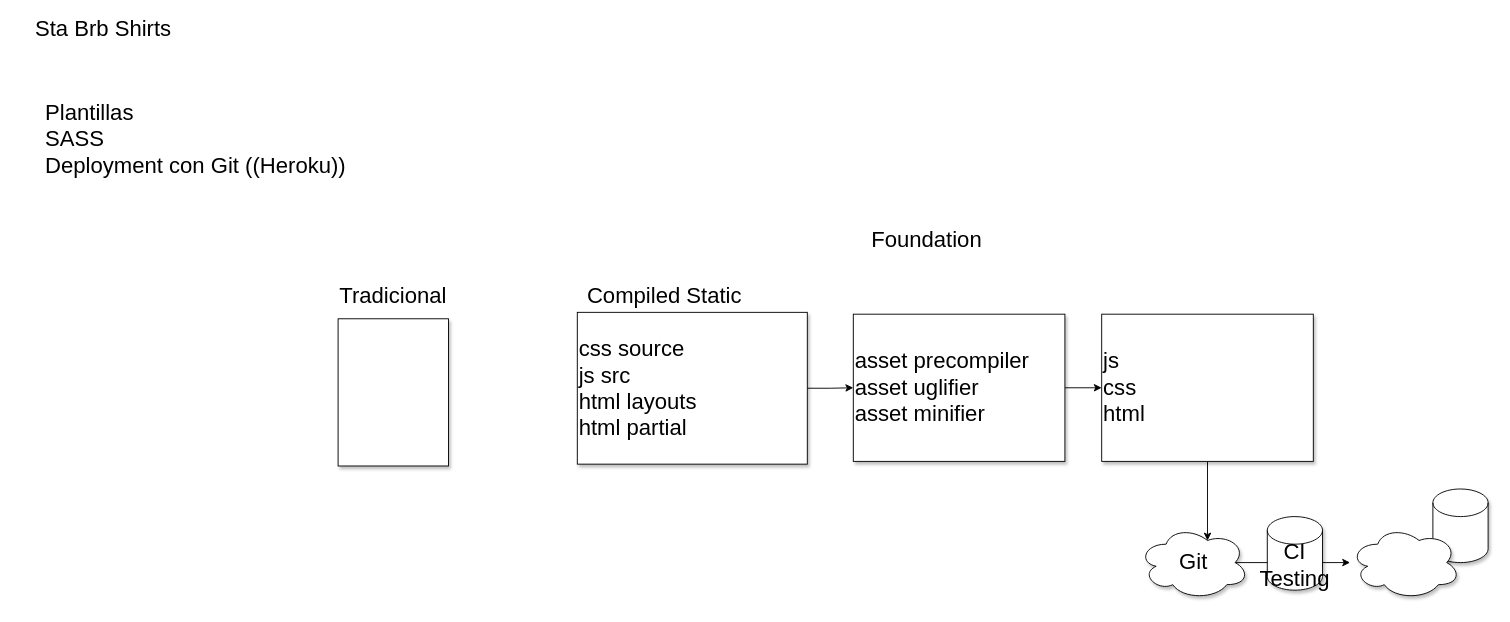
This 1510x622 diagram has some shape labels left out. Here are the shapes that lost their labels. From the top down, the centre of each, then its label:
the point at 394,393: js css html img
the point at 1406,563: Heroku
